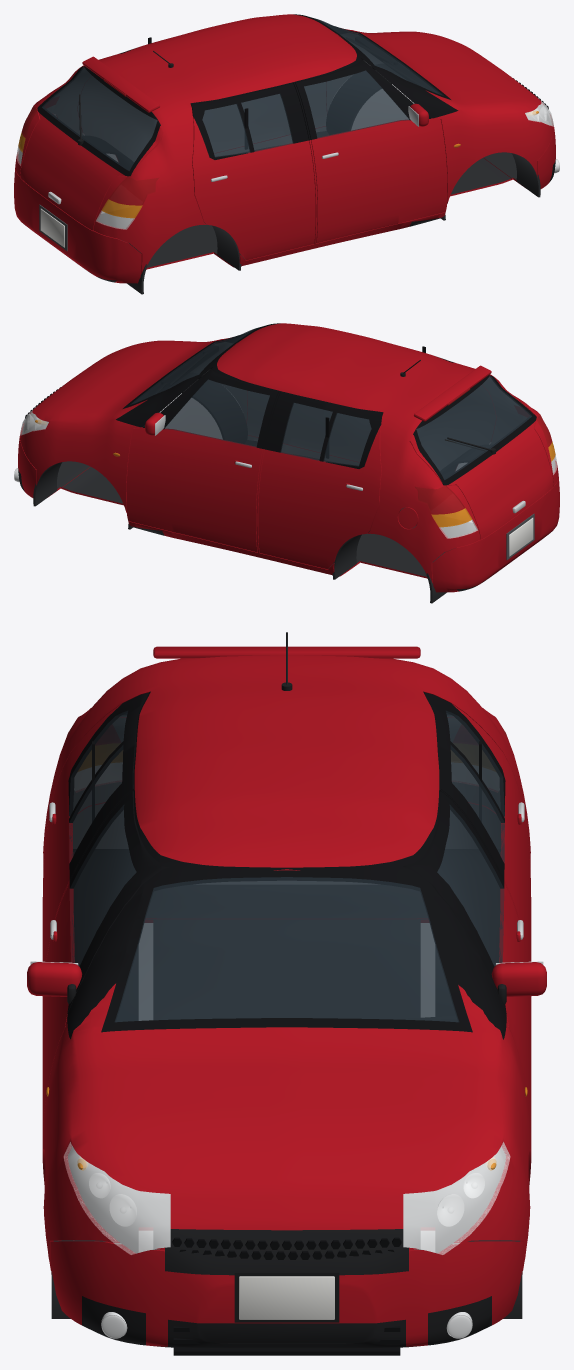
Rendered from exterior.glb.
3 views of the same model, one above another, from view 1: azimuth 30°, elevation 25°; view 2: azimuth 150°, elevation 25°; view 3: azimuth 270°, elevation 25° (orthographic). The views are drawn at different scales.
Visible parts, largest first — view 1: casco, puerta_del_der, puerta_tra_der, porton, paragolpes_tra, puerta_del_izq, puerta_tra_izq, parabrisas, calavera_der, paragolpes_del, calavera_izq, faro_der; view 2: casco, puerta_del_izq, puerta_tra_izq, porton, paragolpes_tra, puerta_del_der, puerta_tra_der, parabrisas, calavera_izq, paragolpes_del, calavera_der, faro_izq (+1 smaller); view 3: casco, parabrisas, paragolpes_del, parrilla, puerta_del_izq, puerta_del_der, paragolpes_tra, puerta_tra_der, puerta_tra_izq, faro_der, faro_izq, porton (+2 smaller).
Part boxes in pixels (bbox=[...]): casco: bbox=[15, 14, 553, 294]; puerta_del_der: bbox=[295, 59, 447, 243]; puerta_tra_der: bbox=[190, 83, 315, 260]; porton: bbox=[20, 56, 164, 230]; paragolpes_tra: bbox=[14, 168, 141, 283]; puerta_del_izq: bbox=[203, 14, 326, 152]; puerta_tra_izq: bbox=[77, 37, 156, 161]; parabrisas: bbox=[310, 17, 450, 99]; calavera_der: bbox=[96, 176, 159, 229]; paragolpes_del: bbox=[483, 116, 555, 188]; calavera_izq: bbox=[16, 97, 58, 165]; faro_der: bbox=[525, 98, 553, 126]; casco: bbox=[20, 323, 558, 603]; puerta_del_izq: bbox=[126, 368, 278, 552]; puerta_tra_izq: bbox=[258, 392, 383, 569]; porton: bbox=[409, 365, 553, 539]; paragolpes_tra: bbox=[432, 477, 559, 592]; puerta_del_der: bbox=[247, 323, 370, 461]; puerta_tra_der: bbox=[417, 346, 496, 470]; parabrisas: bbox=[123, 326, 263, 408]; calavera_izq: bbox=[414, 485, 477, 538]; paragolpes_del: bbox=[18, 425, 90, 497]; calavera_der: bbox=[515, 406, 557, 474]; faro_izq: bbox=[20, 407, 48, 435]; casco: bbox=[42, 632, 531, 1318]; parabrisas: bbox=[101, 870, 472, 1032]; paragolpes_del: bbox=[50, 1241, 523, 1347]; parrilla: bbox=[82, 1229, 491, 1355]; puerta_del_izq: bbox=[403, 791, 546, 1135]; puerta_del_der: bbox=[27, 791, 170, 1135]; paragolpes_tra: bbox=[73, 803, 500, 918]; puerta_tra_der: bbox=[42, 693, 148, 1003]; puerta_tra_izq: bbox=[425, 693, 531, 1003]; faro_der: bbox=[63, 1142, 170, 1254]; faro_izq: bbox=[403, 1142, 510, 1254]; porton: bbox=[120, 646, 452, 716].
Bounding box in the file's own units: 3.78 × 1.41 × 1.79.
